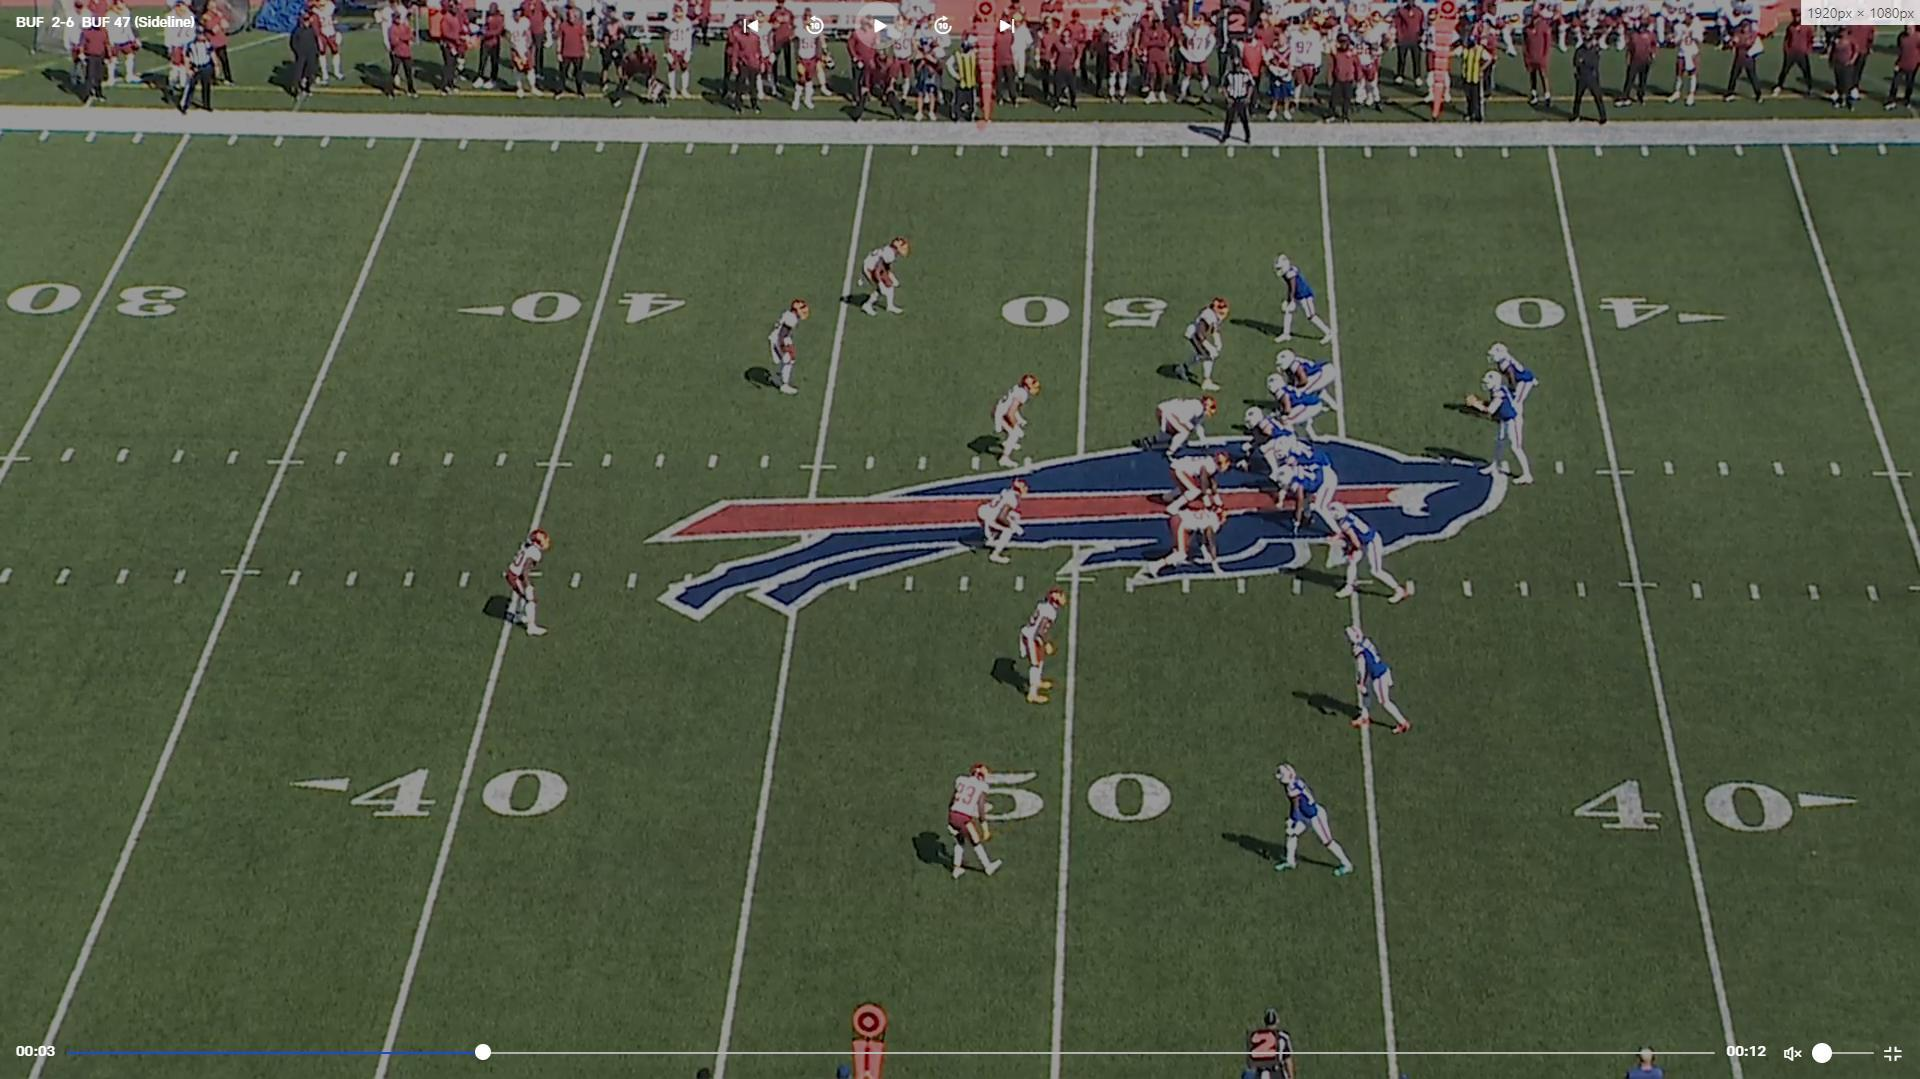player: (1265, 763, 1361, 885), (1450, 368, 1536, 490), (1344, 623, 1423, 741), (1330, 500, 1414, 607), (1013, 582, 1077, 709), (941, 759, 1003, 886), (1269, 252, 1340, 348), (1144, 506, 1232, 583), (502, 526, 559, 643), (1271, 463, 1350, 543), (1170, 296, 1232, 393), (994, 370, 1050, 474), (1132, 395, 1220, 459), (1267, 434, 1340, 506), (763, 298, 811, 402), (855, 234, 909, 322), (976, 479, 1030, 565), (1239, 404, 1302, 474), (1267, 376, 1327, 448), (1160, 452, 1231, 512), (1276, 348, 1338, 408), (1484, 340, 1536, 403)
ref: (173, 22, 226, 121), (1219, 57, 1262, 151)
